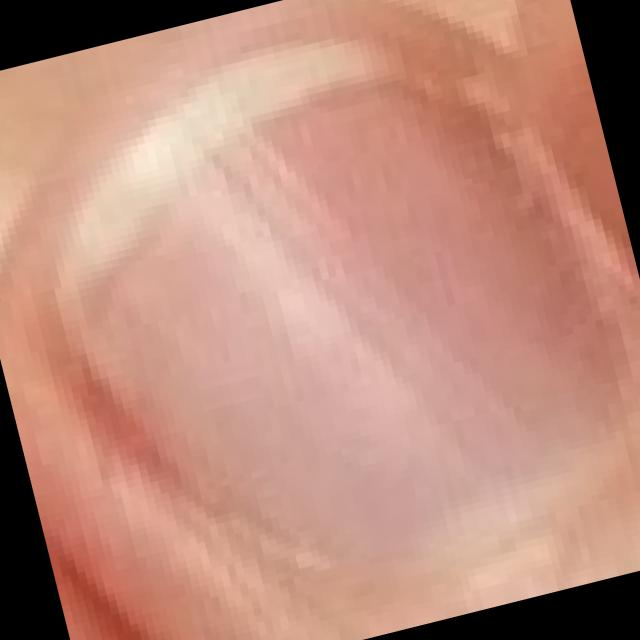Nail: (54, 41, 630, 571)
